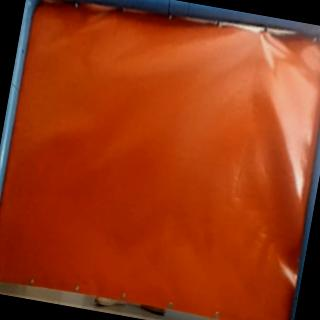Hit-hRxx: (245, 30, 267, 50)
